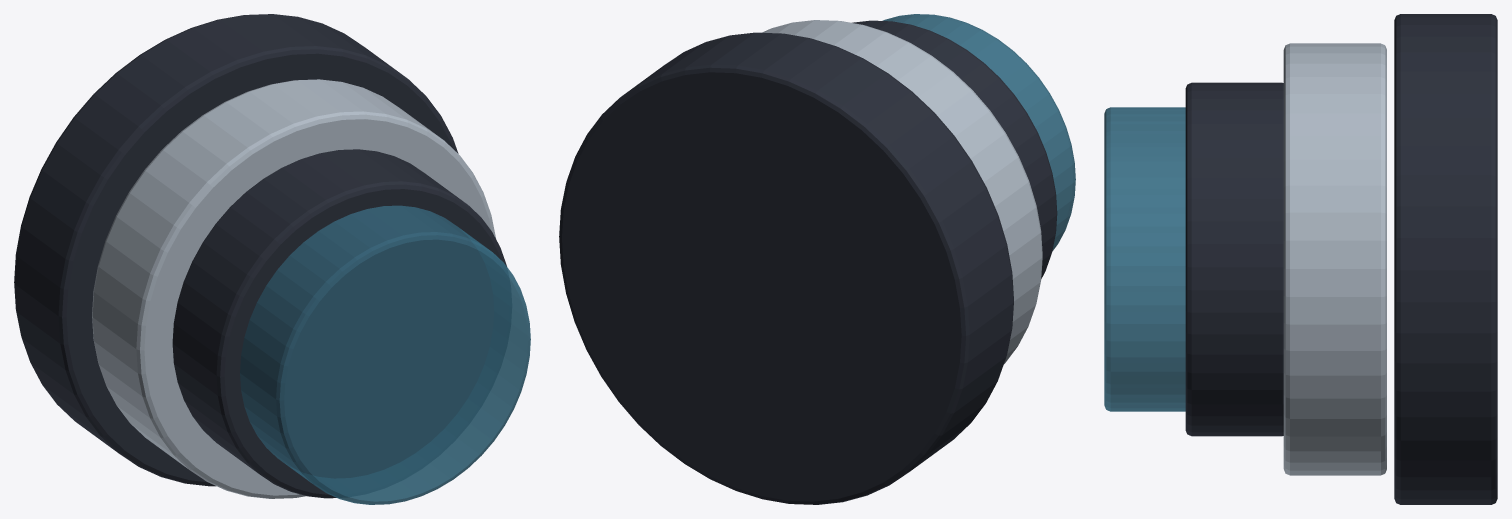
File: objectif-japonais.glb
3 renders of one model, left to right at view 1: azimuth 30°, elevation 25°; view 2: azimuth 150°, elevation 25°; view 3: azimuth 270°, elevation 25°, orthographic. The views are drawn at different scales.
Visible parts, largest first — view 1: Anneau.002, Anneau.003, Anneau, Anneau.001; view 2: Anneau, Anneau.001, Anneau.002, Anneau.003; view 3: Anneau, Anneau.001, Anneau.002, Anneau.003.
Part boxes in pixels (x1,y1,x2,y2): Anneau.002: [172, 149, 506, 498]; Anneau.003: [240, 205, 530, 504]; Anneau: [14, 14, 458, 486]; Anneau.001: [92, 79, 495, 498]; Anneau: [559, 32, 1013, 504]; Anneau.001: [762, 20, 1042, 363]; Anneau.002: [852, 20, 1057, 278]; Anneau.003: [882, 14, 1075, 251]; Anneau: [1394, 14, 1497, 504]; Anneau.001: [1283, 43, 1386, 475]; Anneau.002: [1185, 82, 1283, 436]; Anneau.003: [1104, 107, 1185, 411].
Bounding box in the file's own units: 2 × 2 × 1.6.
